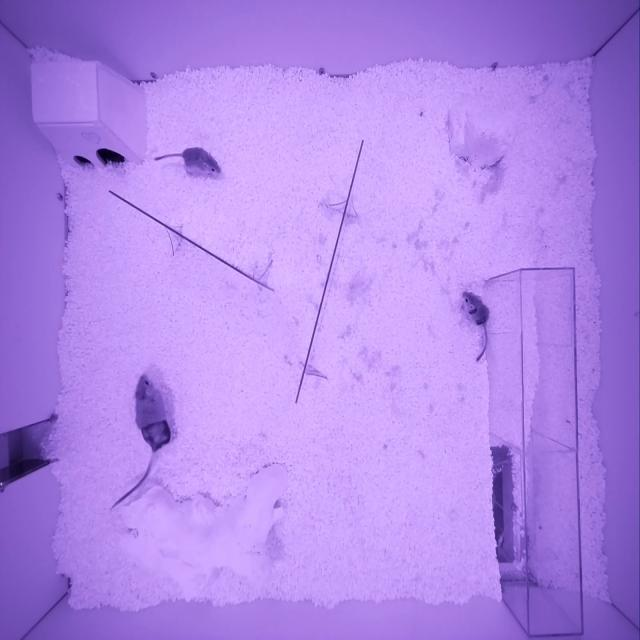adult_back: (134, 374, 172, 452)
pup_fluffy: (181, 147, 221, 173)
pup_spotted: (462, 291, 489, 326)
